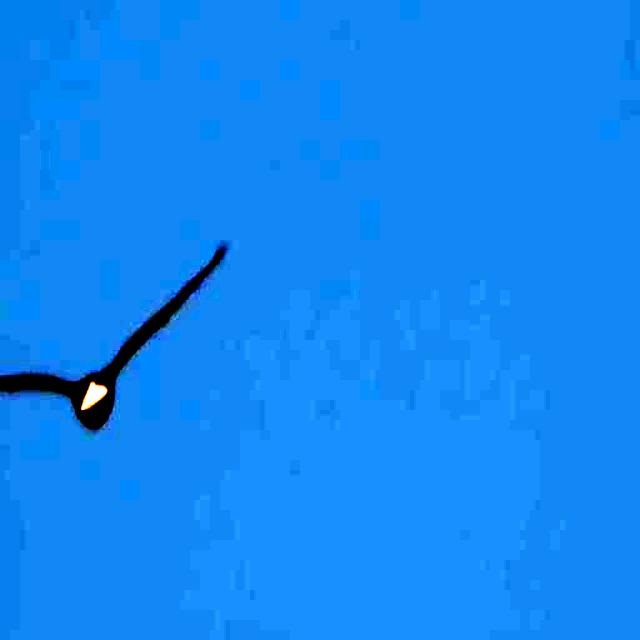airplane: (0, 226, 238, 446)
